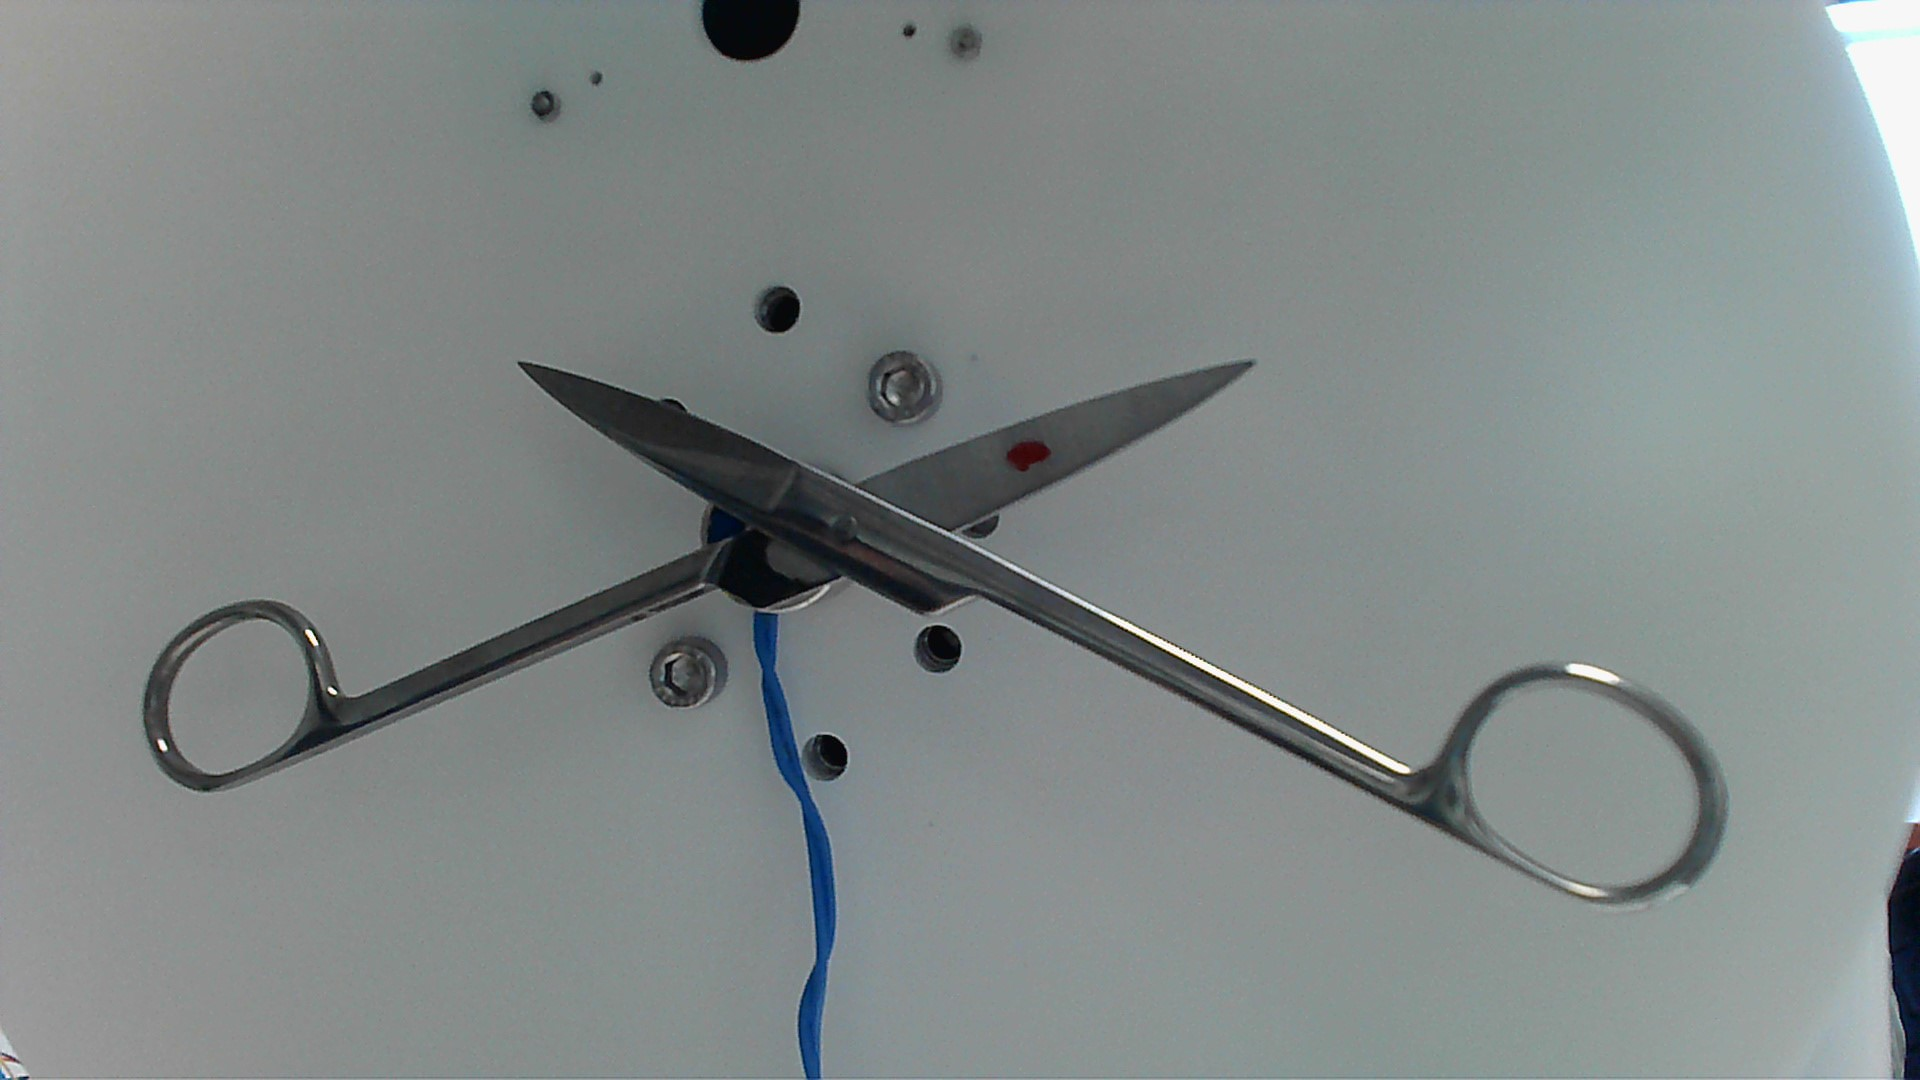Tissues: (994, 438, 1072, 477)
